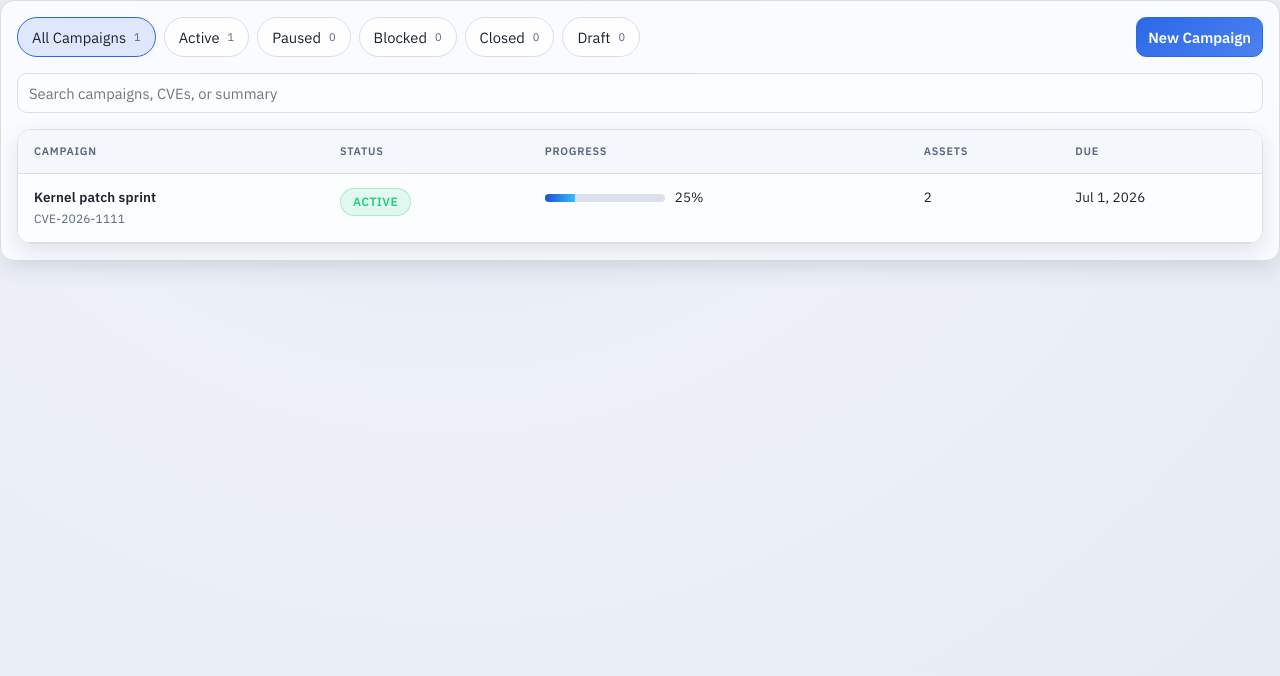
Test: CampaignsPage › renders an existing campaign and transitions status from the detail actions
Click the text "Kernel patch sprint": click(95, 197) left=34, top=188, right=156, bottom=206
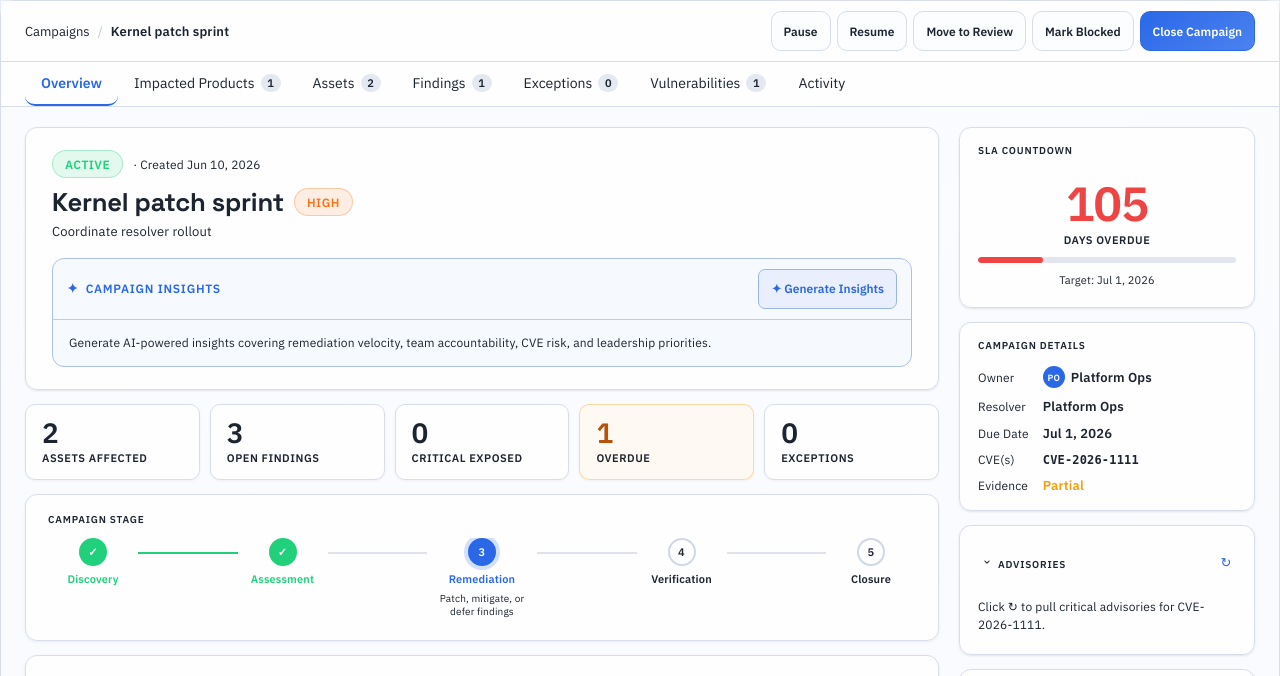
Now the text "CVE-2026-1111" is shown, box left=1043, top=452, right=1139, bottom=466
Click the button "Pause": click(800, 31) left=770, top=11, right=830, bottom=51
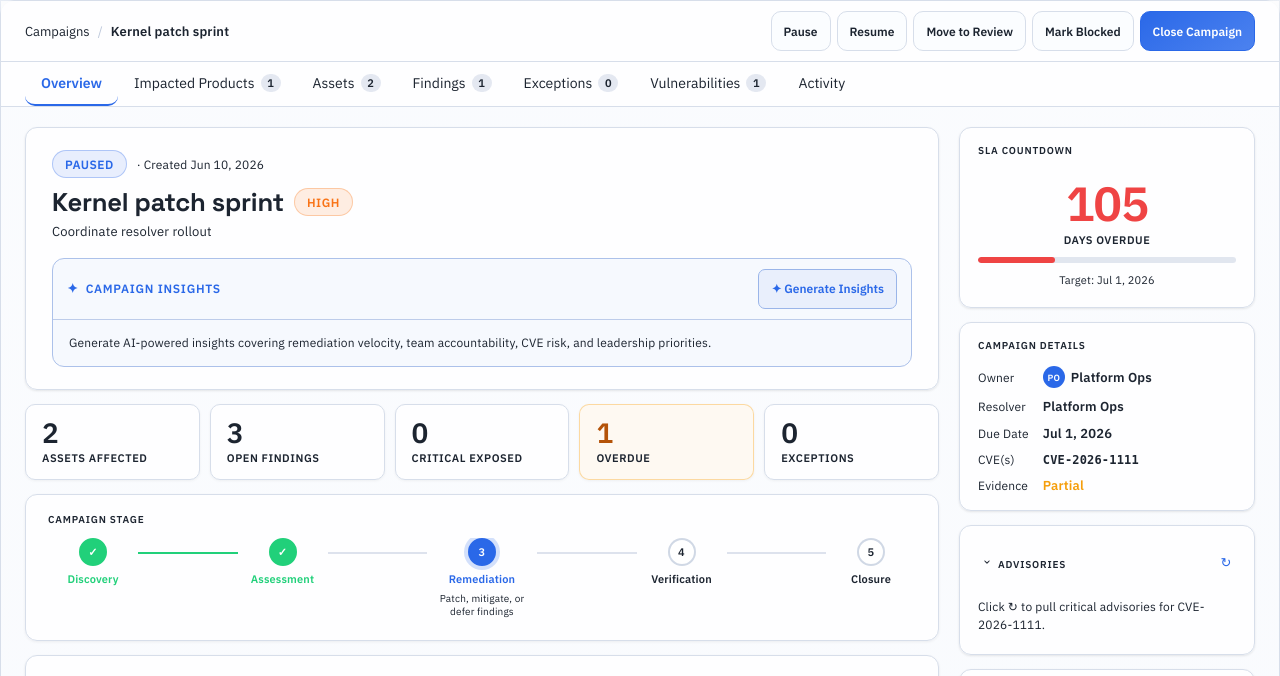
Now the text "Paused" is shown, box left=52, top=150, right=127, bottom=178
